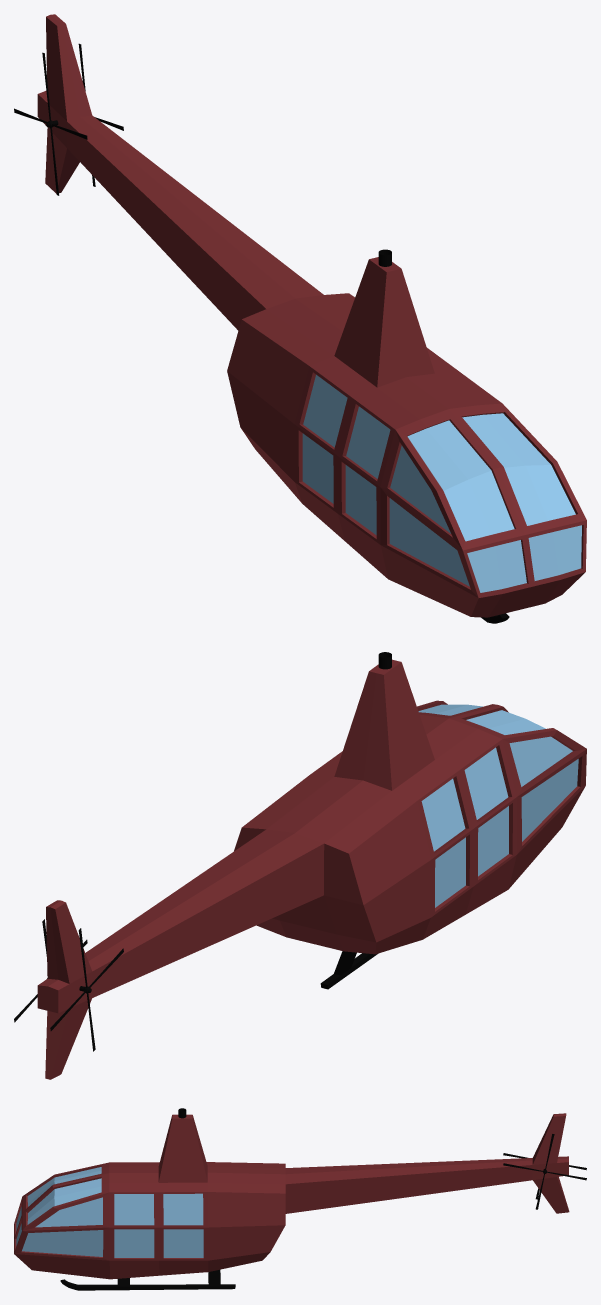
Rendered from Helicopter.glb.
3 views of the same model, one above another, from view 1: azimuth 30°, elevation 25°; view 2: azimuth 150°, elevation 25°; view 3: azimuth 270°, elevation 25° (orthographic). The views are drawn at different scales.
Parts seen in each view (by area): view 1: Cylinder.001; view 2: Cylinder.001; view 3: Cylinder.001.
Part boxes in pixels (x1,y1,x2,y2): Cylinder.001: (14,14,586,623); Cylinder.001: (14,652,586,1079); Cylinder.001: (14,1108,586,1290).
Bounding box in the file's own units: 1.25 × 2.69 × 7.95.
Materials: 3 (3 with a texture image).
